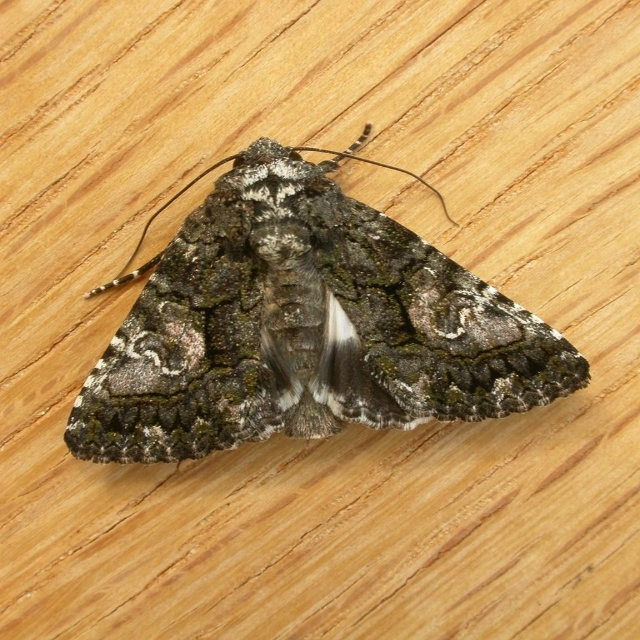Moths and butterflies: (62, 122, 594, 466)
